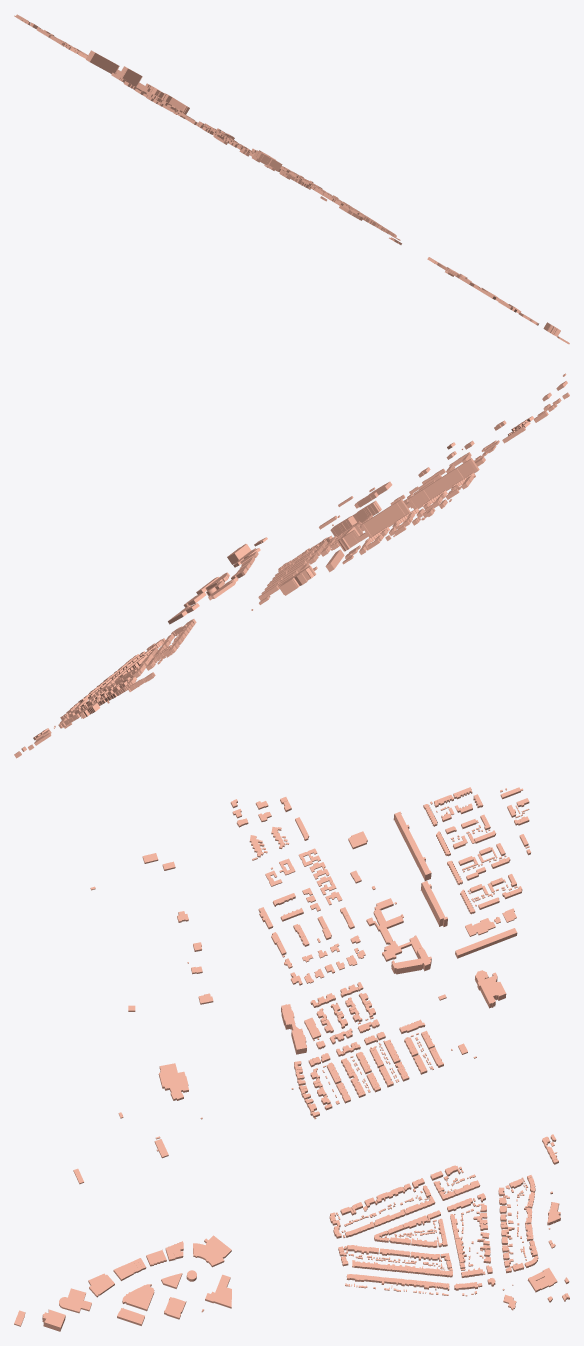
The picture shows the model from 3 angles, top to bottom: view 1: azimuth 30°, elevation 25°; view 2: azimuth 150°, elevation 25°; view 3: azimuth 270°, elevation 25°; orthographic projection. The views are drawn at different scales.
Bounding box in the file's own units: 1055 × 766 × 1154.
